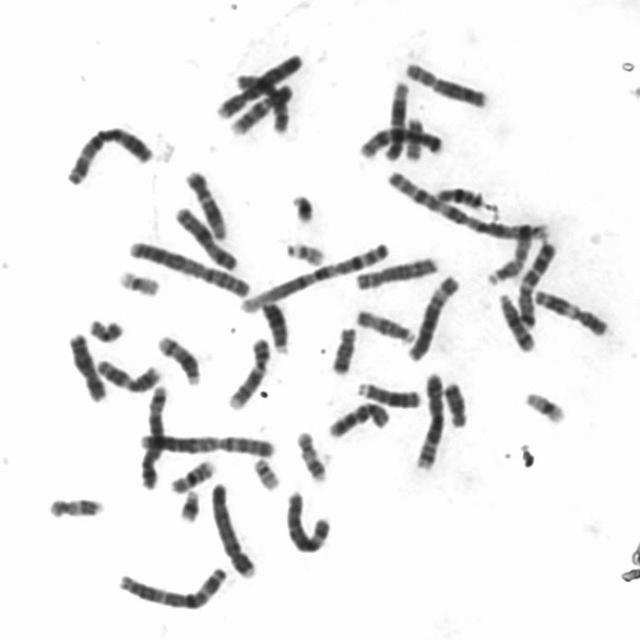A1: (382, 164, 553, 243), (234, 237, 393, 314)
A2: (126, 236, 254, 299), (133, 426, 278, 459)
A3: (61, 121, 156, 187), (115, 561, 232, 610)
B4: (212, 47, 306, 121), (207, 476, 259, 580)
B5: (136, 379, 170, 491), (412, 366, 446, 472)
C10: (229, 72, 294, 135), (324, 396, 393, 440)
C11: (528, 283, 612, 338), (94, 354, 164, 394)
C12: (180, 164, 230, 241), (380, 75, 411, 162)
C6: (403, 270, 463, 362), (282, 484, 335, 556)
C7: (514, 236, 560, 330), (355, 120, 447, 160)
C8: (400, 56, 492, 110), (350, 250, 441, 291)
C9: (225, 78, 294, 137), (223, 332, 272, 412)
D13: (353, 376, 424, 409), (259, 294, 293, 354)
D14: (153, 329, 204, 387), (494, 287, 538, 354)
D15: (482, 222, 535, 286), (351, 303, 418, 344)
E16: (166, 454, 219, 494), (432, 181, 489, 212)
E17: (292, 426, 330, 484), (43, 491, 107, 520)
E18: (326, 321, 359, 377), (440, 377, 470, 429)
F19: (520, 386, 569, 425), (114, 264, 164, 298)
F20: (84, 313, 126, 344), (401, 112, 426, 162)
G21: (286, 188, 318, 225), (174, 484, 203, 524)
G22: (280, 236, 328, 268), (249, 452, 284, 492)
X: (170, 200, 240, 272), (64, 328, 108, 403)
